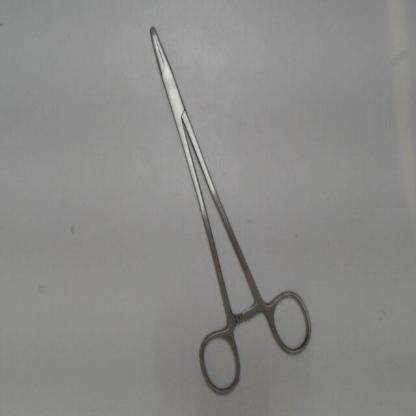8 Mayo Needle Holder: (142, 11, 319, 405)
